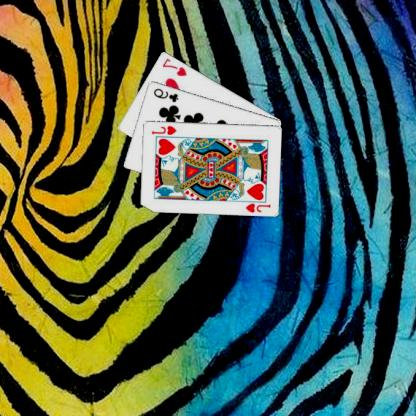7H: (162, 56, 190, 77)
9C: (152, 85, 182, 104)
JH: (151, 122, 179, 136), (245, 200, 273, 214)
